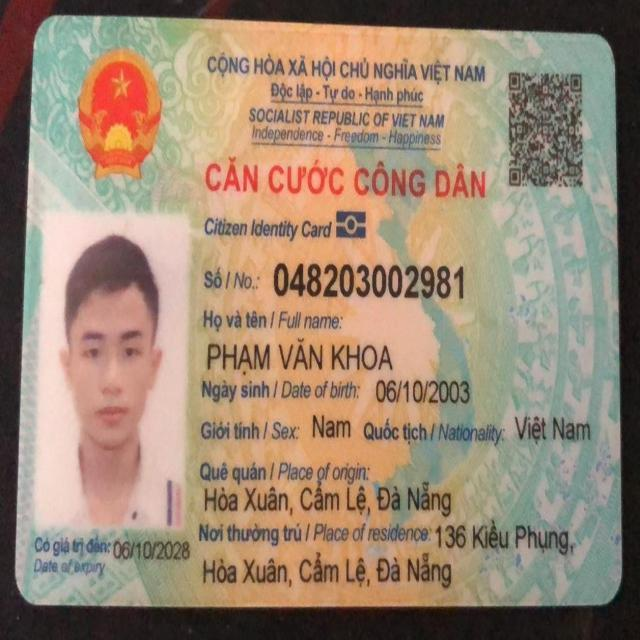current_place: (200, 550, 460, 595), (434, 516, 571, 551)
dob: (374, 373, 474, 412)
expire_date: (111, 532, 194, 566)
gender: (310, 411, 352, 447)
id: (270, 253, 466, 304)
name: (201, 337, 401, 375)
nationality: (514, 412, 593, 447)
origin_place: (199, 478, 451, 517)
qr: (503, 64, 588, 196)
